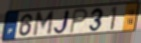1: (109, 5, 118, 31)
3: (88, 7, 106, 34)
6: (18, 13, 34, 37)
J: (52, 9, 72, 36)
M: (31, 10, 56, 38)
P: (68, 8, 89, 35)
